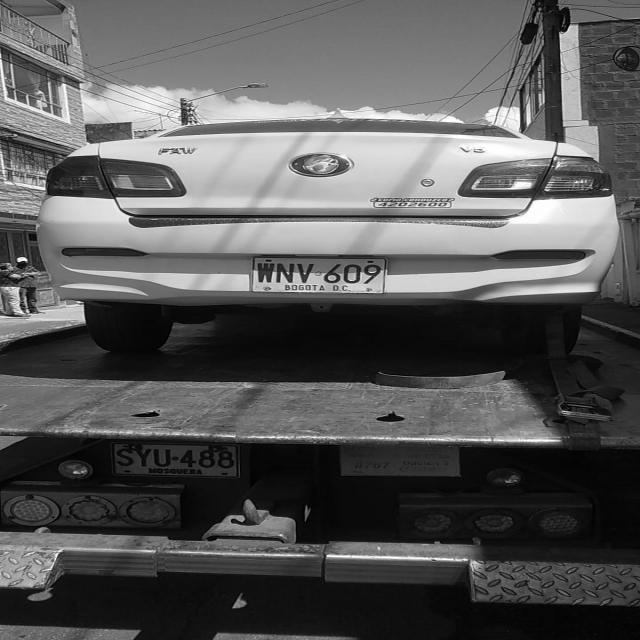plate: (243, 248, 397, 300)
